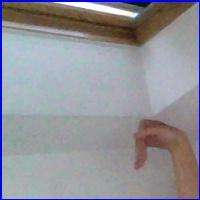del: (126, 118, 189, 175)
